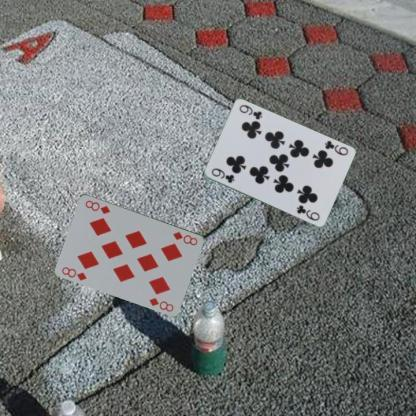8d: (170, 229, 199, 247), (60, 264, 88, 282)
9c: (322, 138, 349, 157), (208, 166, 236, 184)
